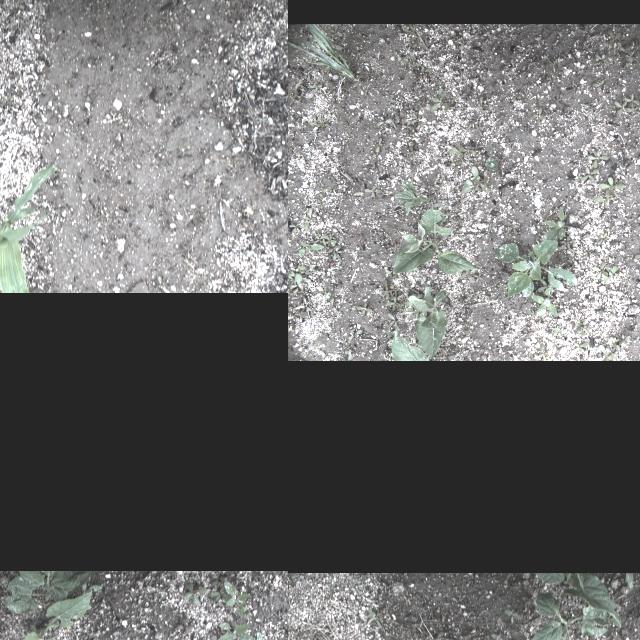crop: (376, 209, 482, 361), (0, 164, 56, 292), (536, 574, 620, 630), (527, 591, 606, 640), (5, 570, 91, 614), (20, 588, 92, 640), (392, 178, 450, 216)
weed: (497, 231, 575, 299), (288, 23, 356, 80), (224, 581, 248, 617), (461, 165, 489, 192), (428, 88, 456, 112), (545, 206, 565, 238), (218, 622, 253, 640), (596, 172, 624, 194), (531, 295, 559, 317), (182, 580, 205, 604), (586, 148, 608, 170), (571, 165, 599, 182), (596, 28, 622, 46), (301, 206, 317, 232), (590, 344, 614, 361), (545, 56, 563, 78), (164, 145, 192, 159), (592, 192, 616, 208), (615, 40, 635, 59), (530, 105, 548, 126), (288, 271, 309, 289), (296, 242, 322, 256), (152, 275, 172, 293), (590, 260, 608, 280), (366, 608, 382, 630), (392, 120, 413, 136), (234, 631, 271, 640), (600, 266, 618, 284), (325, 241, 341, 261), (588, 51, 610, 65), (0, 96, 18, 111), (363, 184, 382, 198), (176, 618, 192, 634), (221, 192, 235, 210), (569, 342, 589, 354), (80, 86, 94, 102), (560, 235, 574, 251), (409, 112, 425, 126), (448, 145, 464, 159), (504, 609, 520, 623), (372, 136, 383, 156), (575, 319, 587, 337), (314, 349, 332, 361), (621, 94, 639, 106), (608, 335, 620, 353), (444, 160, 462, 172), (538, 344, 550, 361), (614, 100, 628, 114), (484, 156, 498, 170), (348, 328, 364, 340), (356, 302, 372, 314), (329, 24, 341, 40), (476, 96, 486, 115), (318, 187, 337, 197), (375, 117, 393, 127), (590, 78, 604, 90), (404, 146, 416, 160), (596, 231, 608, 245), (540, 282, 552, 296), (506, 222, 518, 234), (406, 40, 418, 52), (314, 232, 326, 244), (296, 264, 314, 272), (586, 105, 596, 119), (410, 53, 420, 67), (472, 123, 483, 135), (309, 114, 317, 130), (625, 107, 637, 117), (406, 24, 416, 36), (352, 74, 362, 86), (622, 62, 636, 70), (317, 118, 325, 132), (308, 83, 322, 91), (329, 298, 337, 312), (298, 304, 312, 312), (624, 573, 632, 587), (288, 222, 298, 233), (552, 326, 562, 336), (619, 334, 629, 344), (419, 66, 429, 76), (320, 291, 330, 301), (436, 176, 444, 188), (432, 68, 438, 84), (394, 54, 406, 62), (344, 348, 352, 360), (489, 633, 502, 640), (0, 69, 6, 83), (504, 136, 510, 150), (352, 178, 366, 184), (633, 249, 640, 261), (417, 98, 427, 106), (581, 250, 591, 258), (313, 178, 323, 186), (326, 232, 334, 242), (312, 284, 322, 292), (636, 603, 640, 622), (456, 105, 468, 111), (314, 200, 326, 206), (521, 329, 529, 338), (460, 274, 472, 280), (513, 90, 521, 98), (411, 161, 419, 169), (523, 250, 531, 258), (367, 313, 375, 321), (466, 148, 474, 156), (384, 90, 394, 96), (357, 251, 363, 261), (608, 308, 614, 318), (626, 50, 632, 60), (438, 174, 448, 180), (355, 578, 361, 588), (288, 210, 294, 219), (636, 85, 640, 98), (514, 112, 520, 120), (421, 133, 433, 137), (316, 318, 322, 326), (574, 357, 584, 361), (384, 176, 390, 182), (316, 138, 324, 142), (488, 227, 492, 233), (317, 332, 323, 336), (308, 294, 314, 298), (288, 289, 292, 295)
